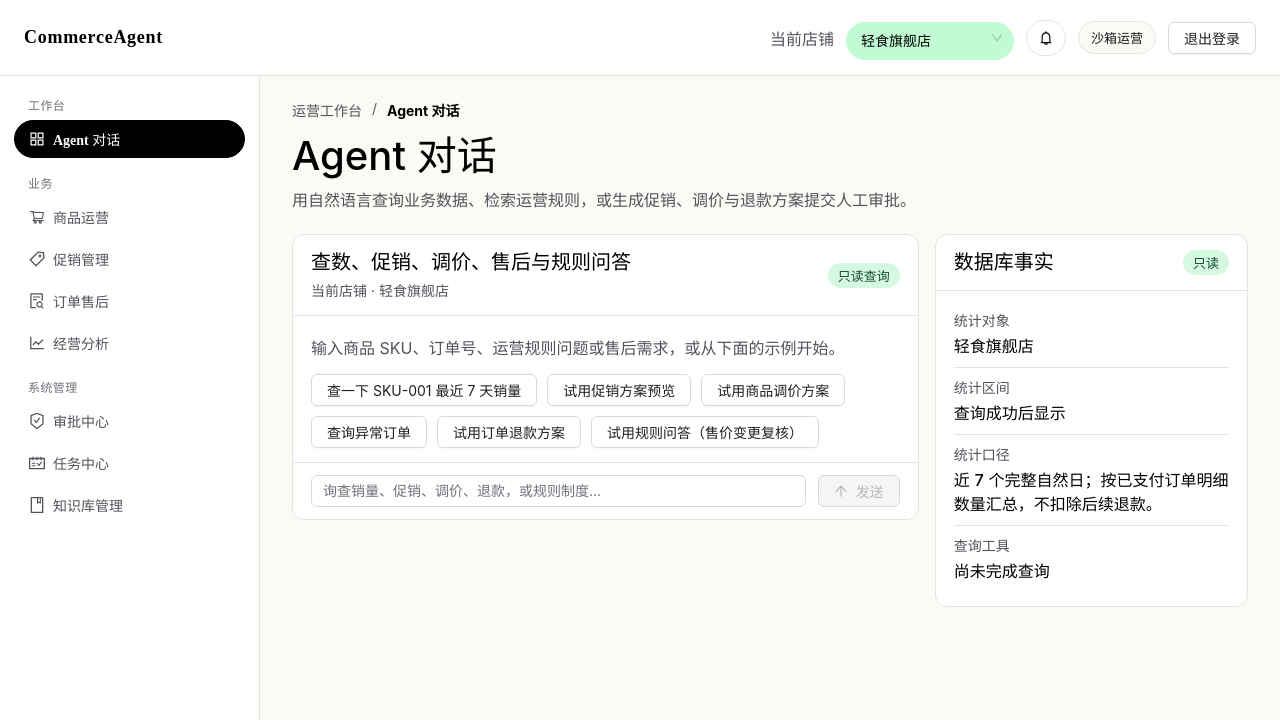
Scenario: switches active shop from the top banner and warns on cross-shop session continuation
Type "SKU-001 最近 7 天卖了多少件？" into the field named "输入查数问题".
click(558, 491); type("SKU-001 最近 7 天卖了多少件？")  # box [311,475,806,507]
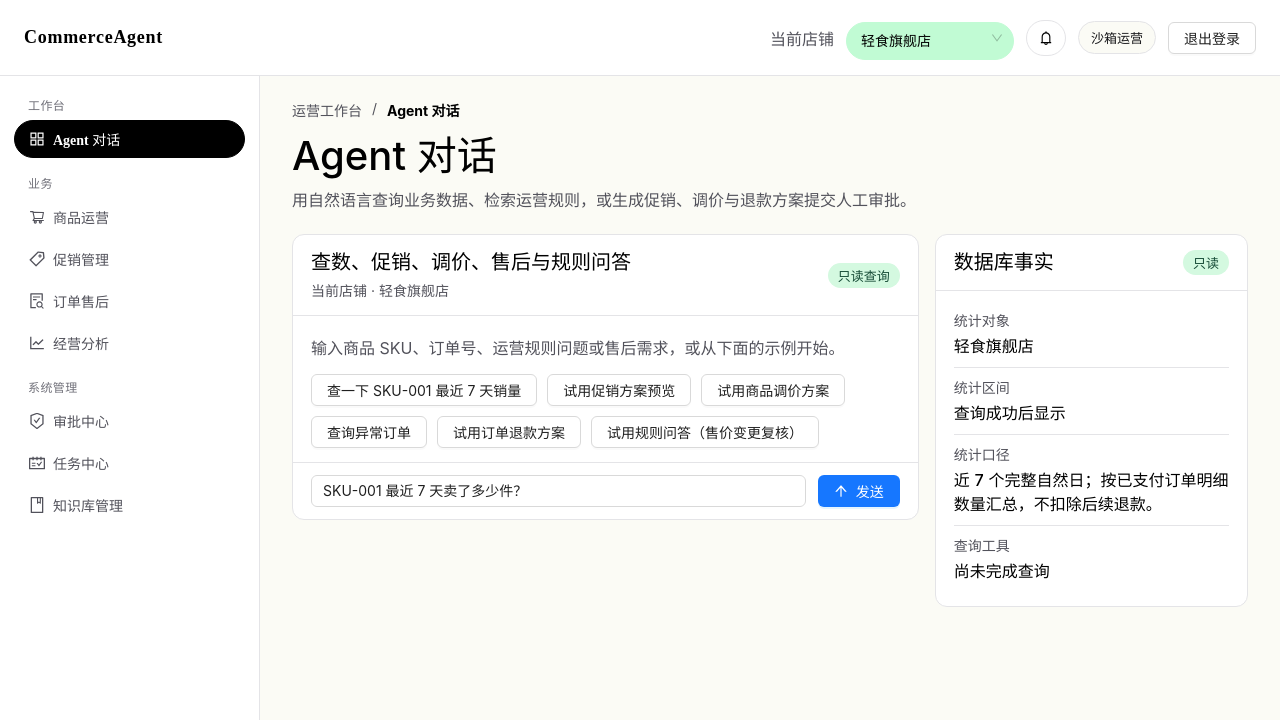
Click the button "发送".
click(859, 491)  # box [818,475,900,507]
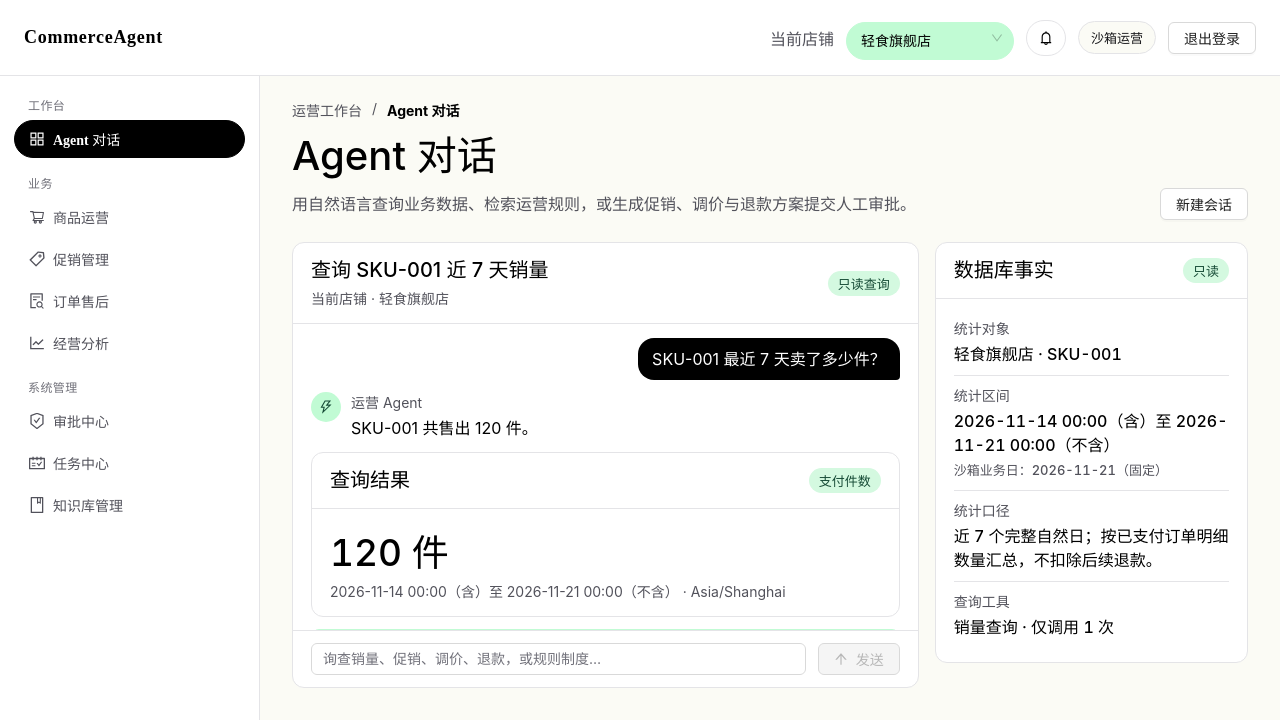
expect the text "120 件" is shown: met, box [330,530,449,575]
Press the mouse on the dropdown named "切换店铺" at (896, 40), box [861,32,931,48]
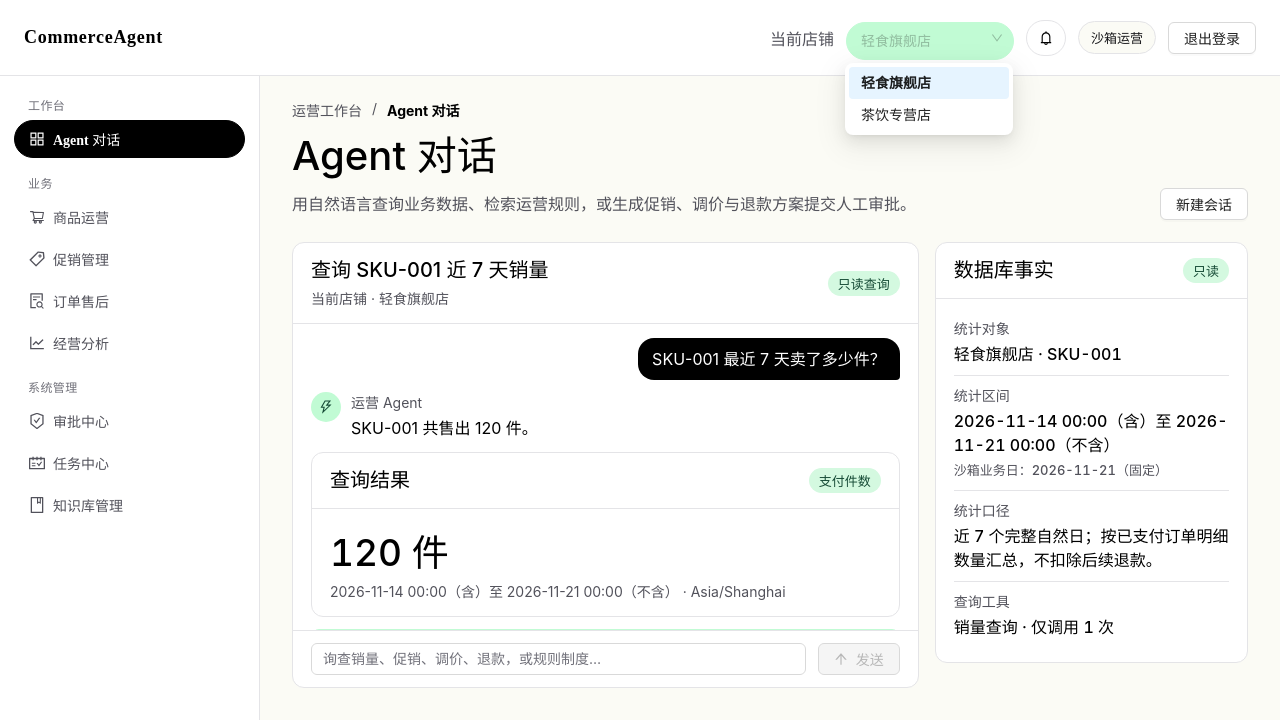
Click the option "茶饮专营店".
click(896, 114)  # box [861,106,931,123]
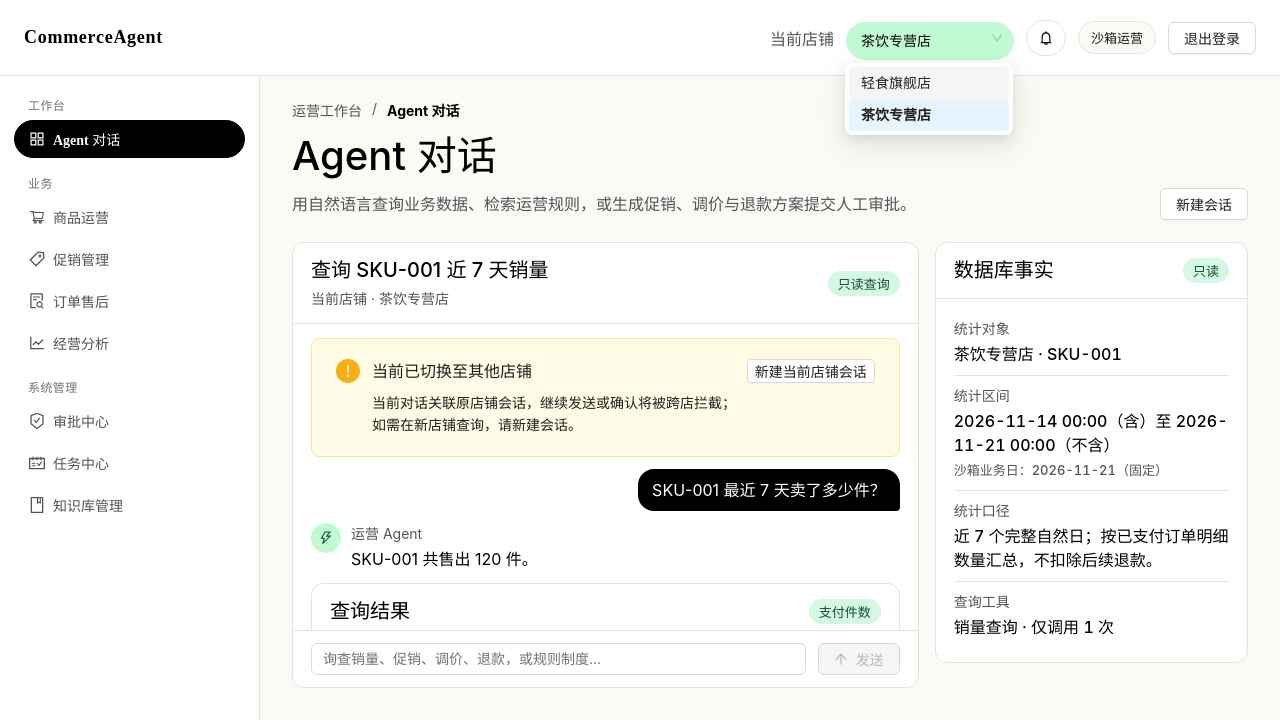
expect the text "当前已切换至其他店铺" is shown: met, box [372,361,532,381]
Type "继续刚才的方案" into the field named "输入查数问题".
click(558, 659); type("继续刚才的方案")  # box [311,643,806,675]
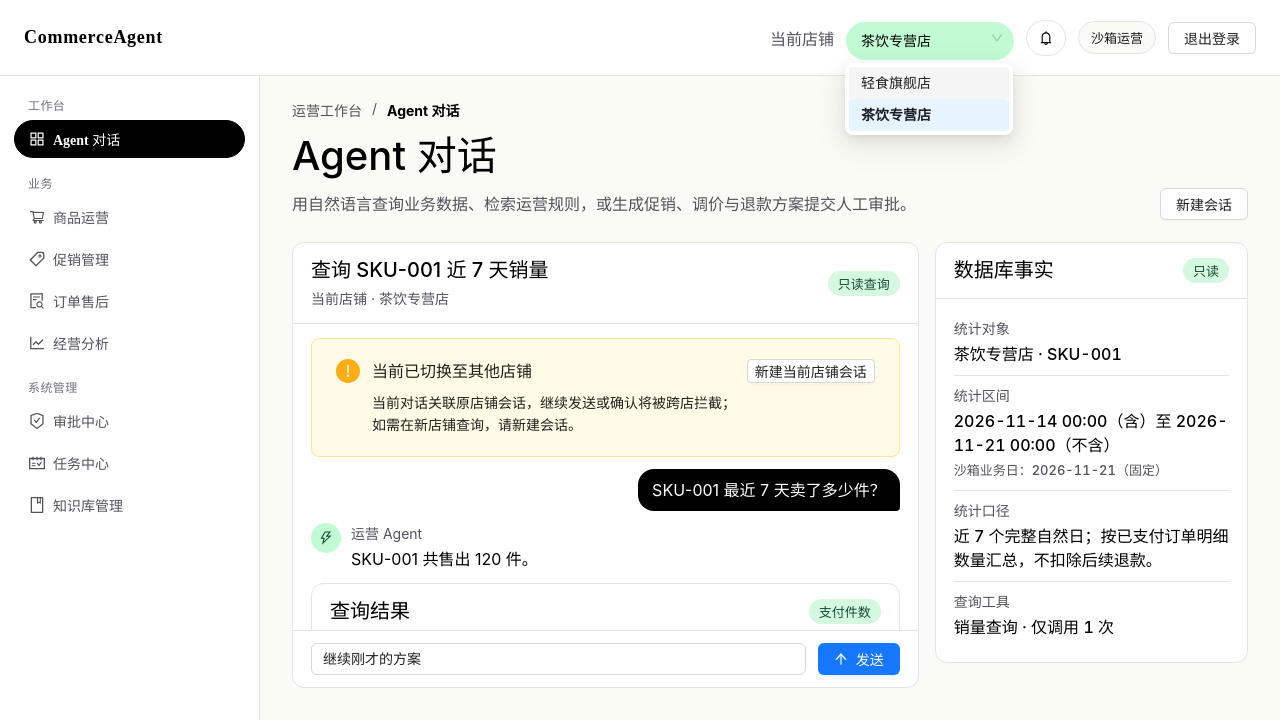
Click the button "发送".
click(859, 659)  # box [818,643,900,675]
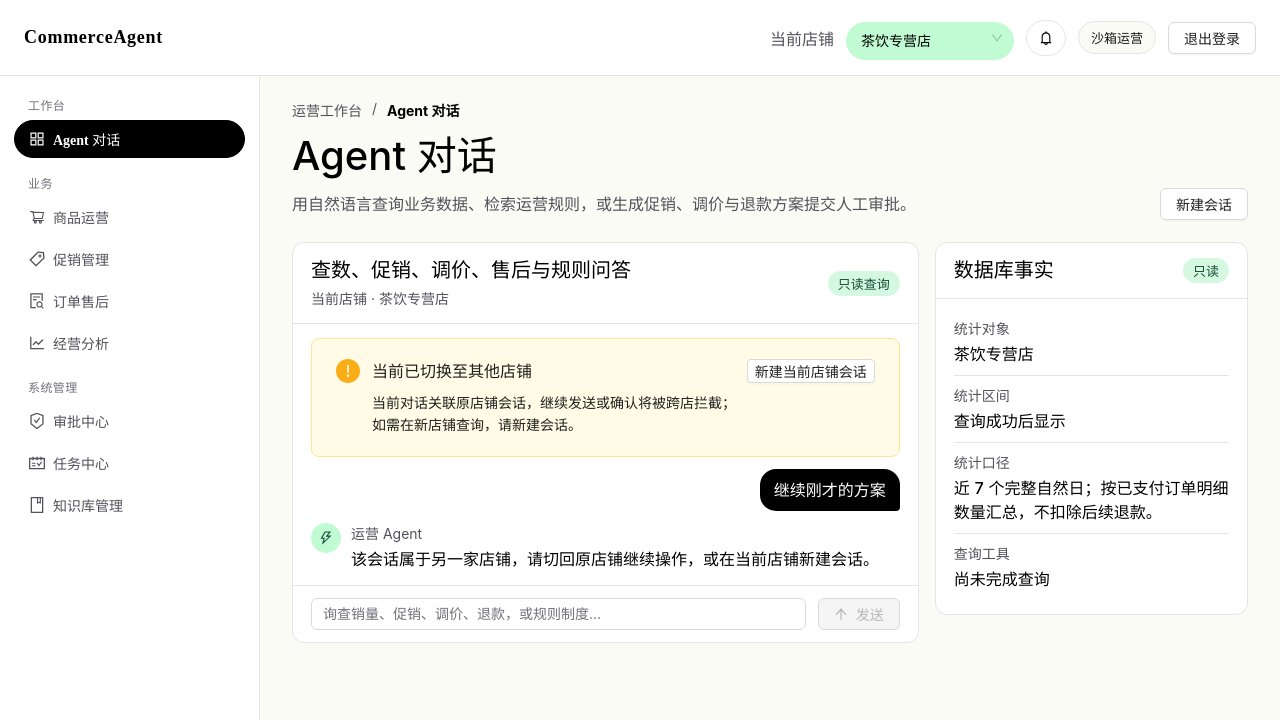
expect the text "该会话属于另一家店铺，请切回原店铺继续操作，或在当前店铺新建会话。" is shown: met, box [351,547,879,571]
